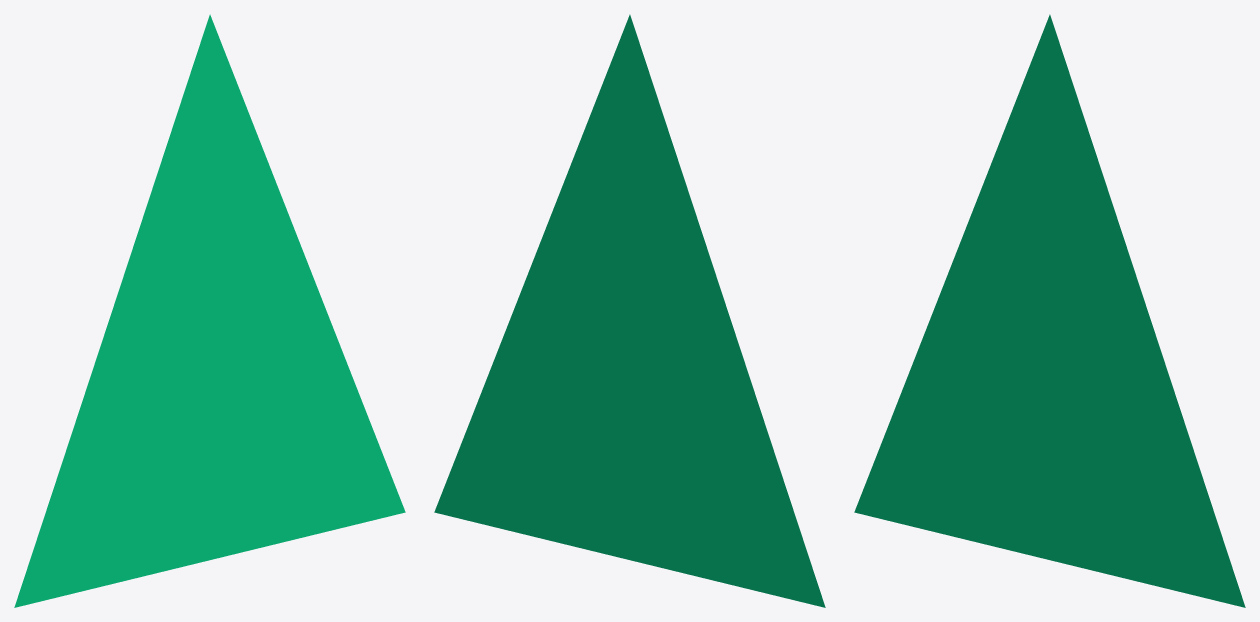
The model's file is hoja.glb.
The picture shows the model from 3 angles, left to right: view 1: azimuth 30°, elevation 25°; view 2: azimuth 150°, elevation 25°; view 3: azimuth 330°, elevation 25°; orthographic projection.
Size of the model in its own units: 0.3 by 0.4 by 0.
